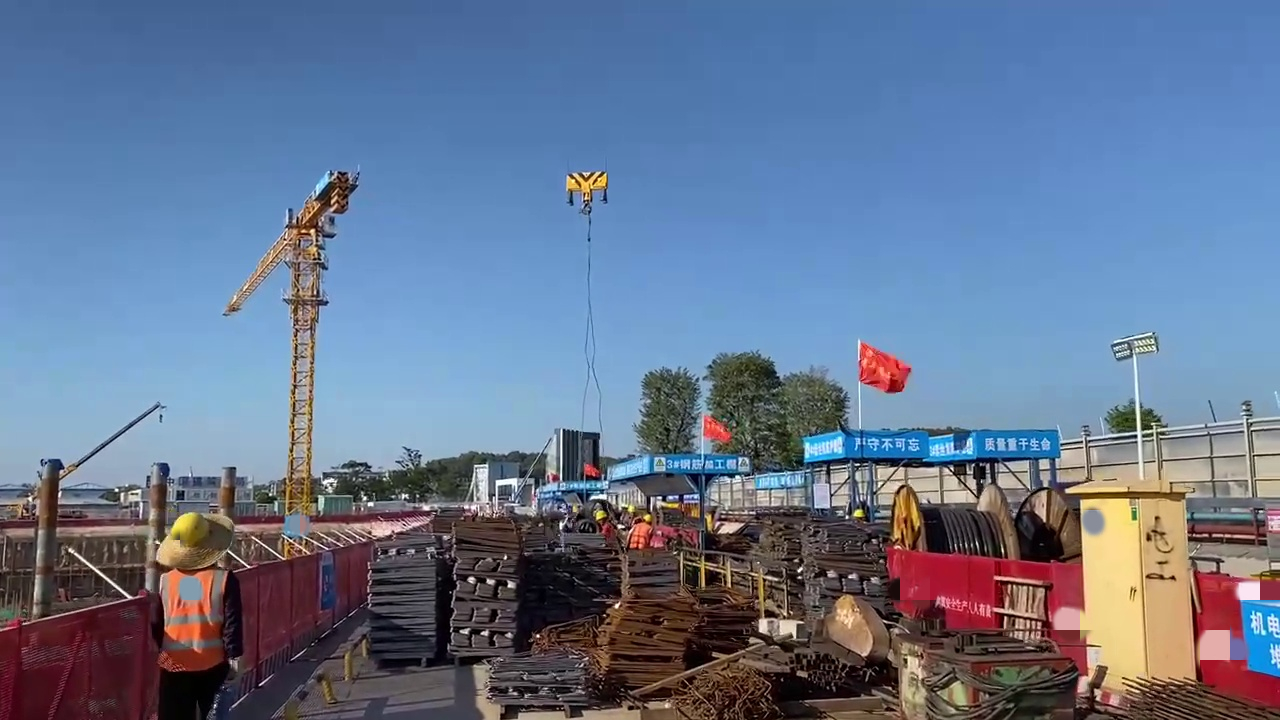ebox: (1073, 480, 1201, 667)
fence: (1, 592, 154, 720), (887, 543, 1072, 648), (242, 543, 369, 675), (1201, 571, 1280, 705)
helmet: (168, 515, 210, 546)
hook: (563, 169, 609, 202)
person: (151, 510, 239, 716), (630, 511, 656, 547), (593, 509, 612, 536), (625, 504, 636, 528)
rebar: (589, 590, 699, 706), (455, 514, 522, 662), (372, 542, 439, 670), (1114, 669, 1255, 720), (777, 520, 845, 618), (766, 640, 867, 691), (684, 659, 768, 720), (544, 627, 599, 666)
slogan: (975, 432, 1059, 457), (844, 434, 932, 457), (938, 594, 994, 619)
vest: (159, 566, 233, 670)
